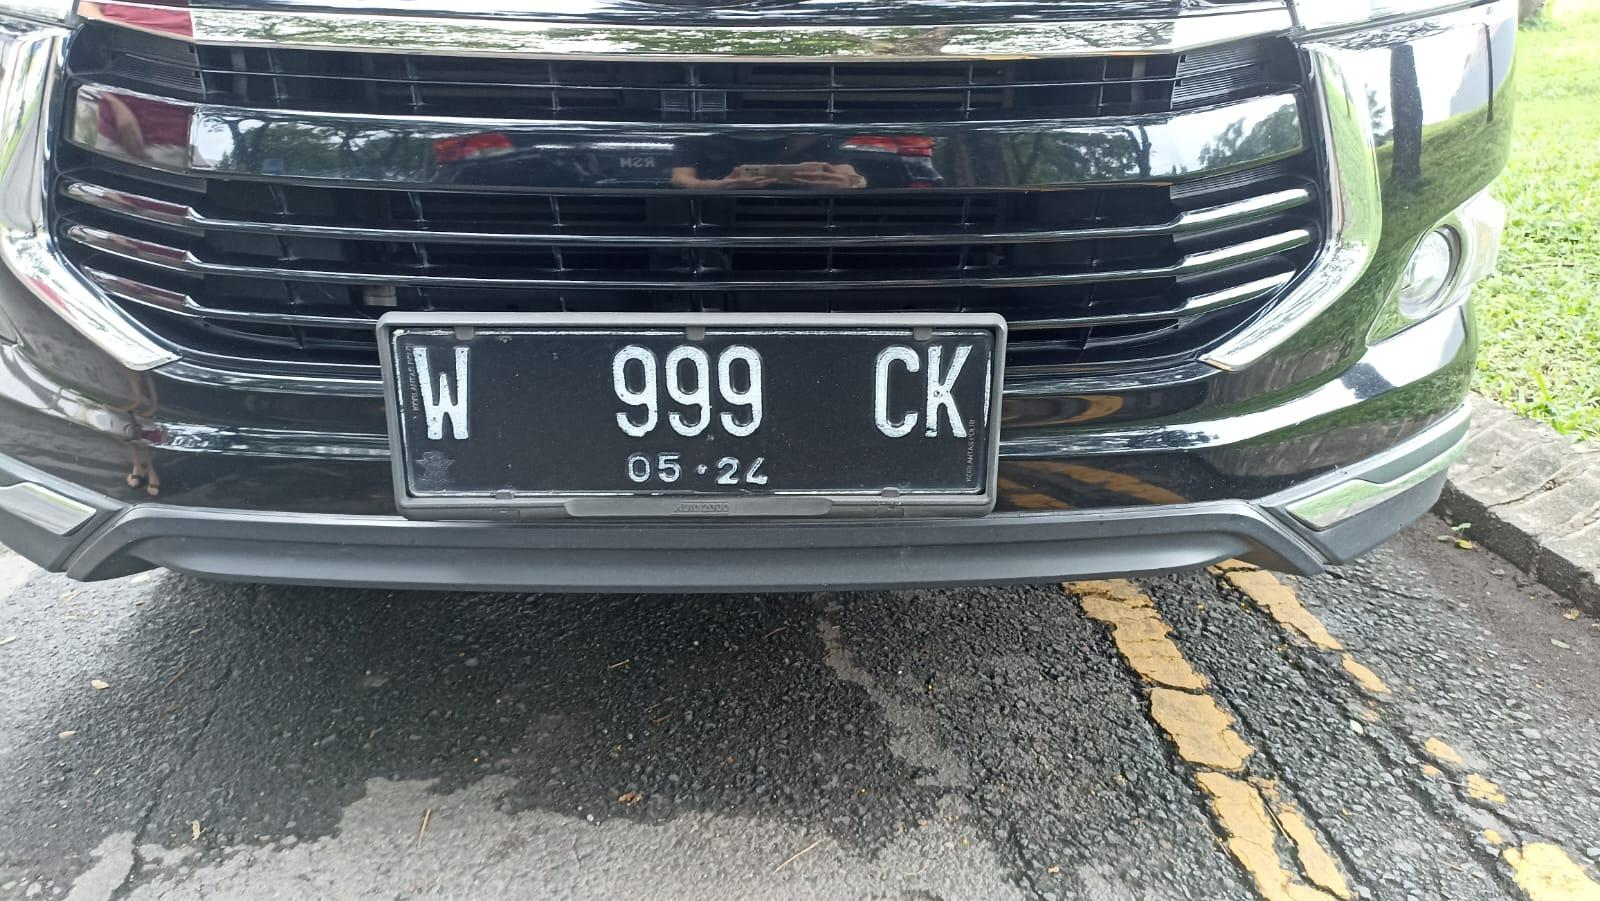plat: (378, 315, 1007, 519)
